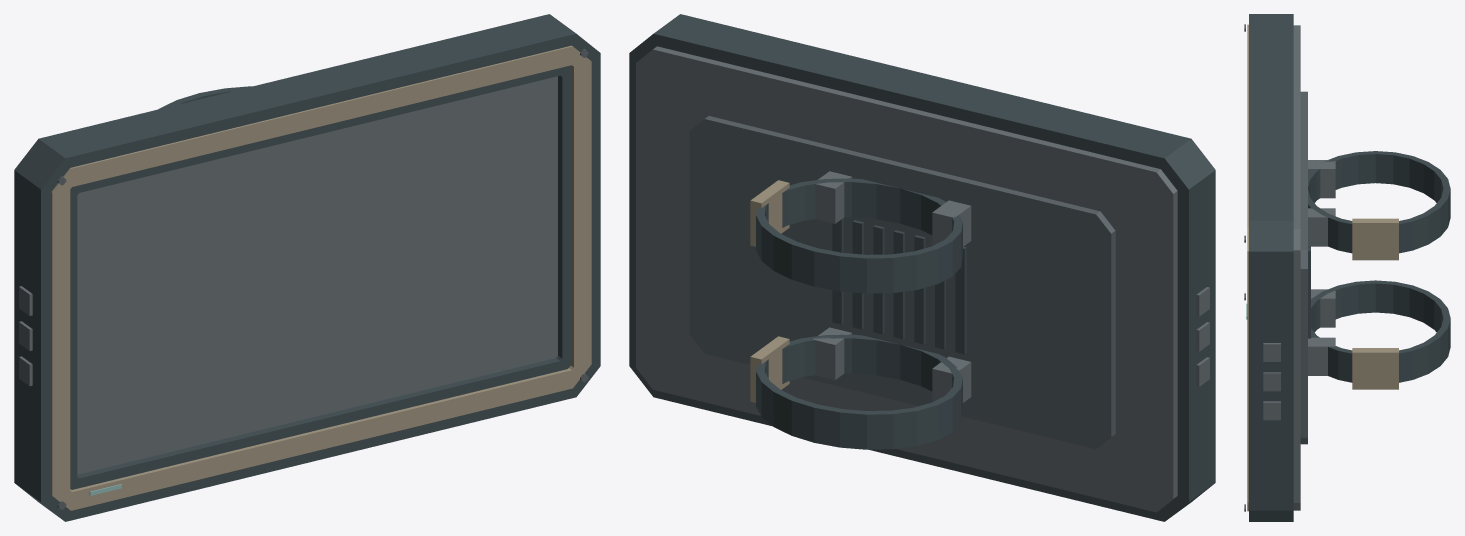
Rendered from base-camera.glb.
3 views of the same model, side by side, from view 1: azimuth 30°, elevation 25°; view 2: azimuth 150°, elevation 25°; view 3: azimuth 270°, elevation 25° (orthographic). The views are drawn at different scales.
Visible parts, largest first — view 1: WristCase; view 2: WristCase; view 3: WristCase.
Part boxes in pixels (x1,y1,x2,y2): WristCase: (14, 14, 600, 521); WristCase: (629, 14, 1215, 521); WristCase: (1244, 14, 1450, 521).
Size of the model in its own units: 0.303 by 0.1863 by 0.1156.
